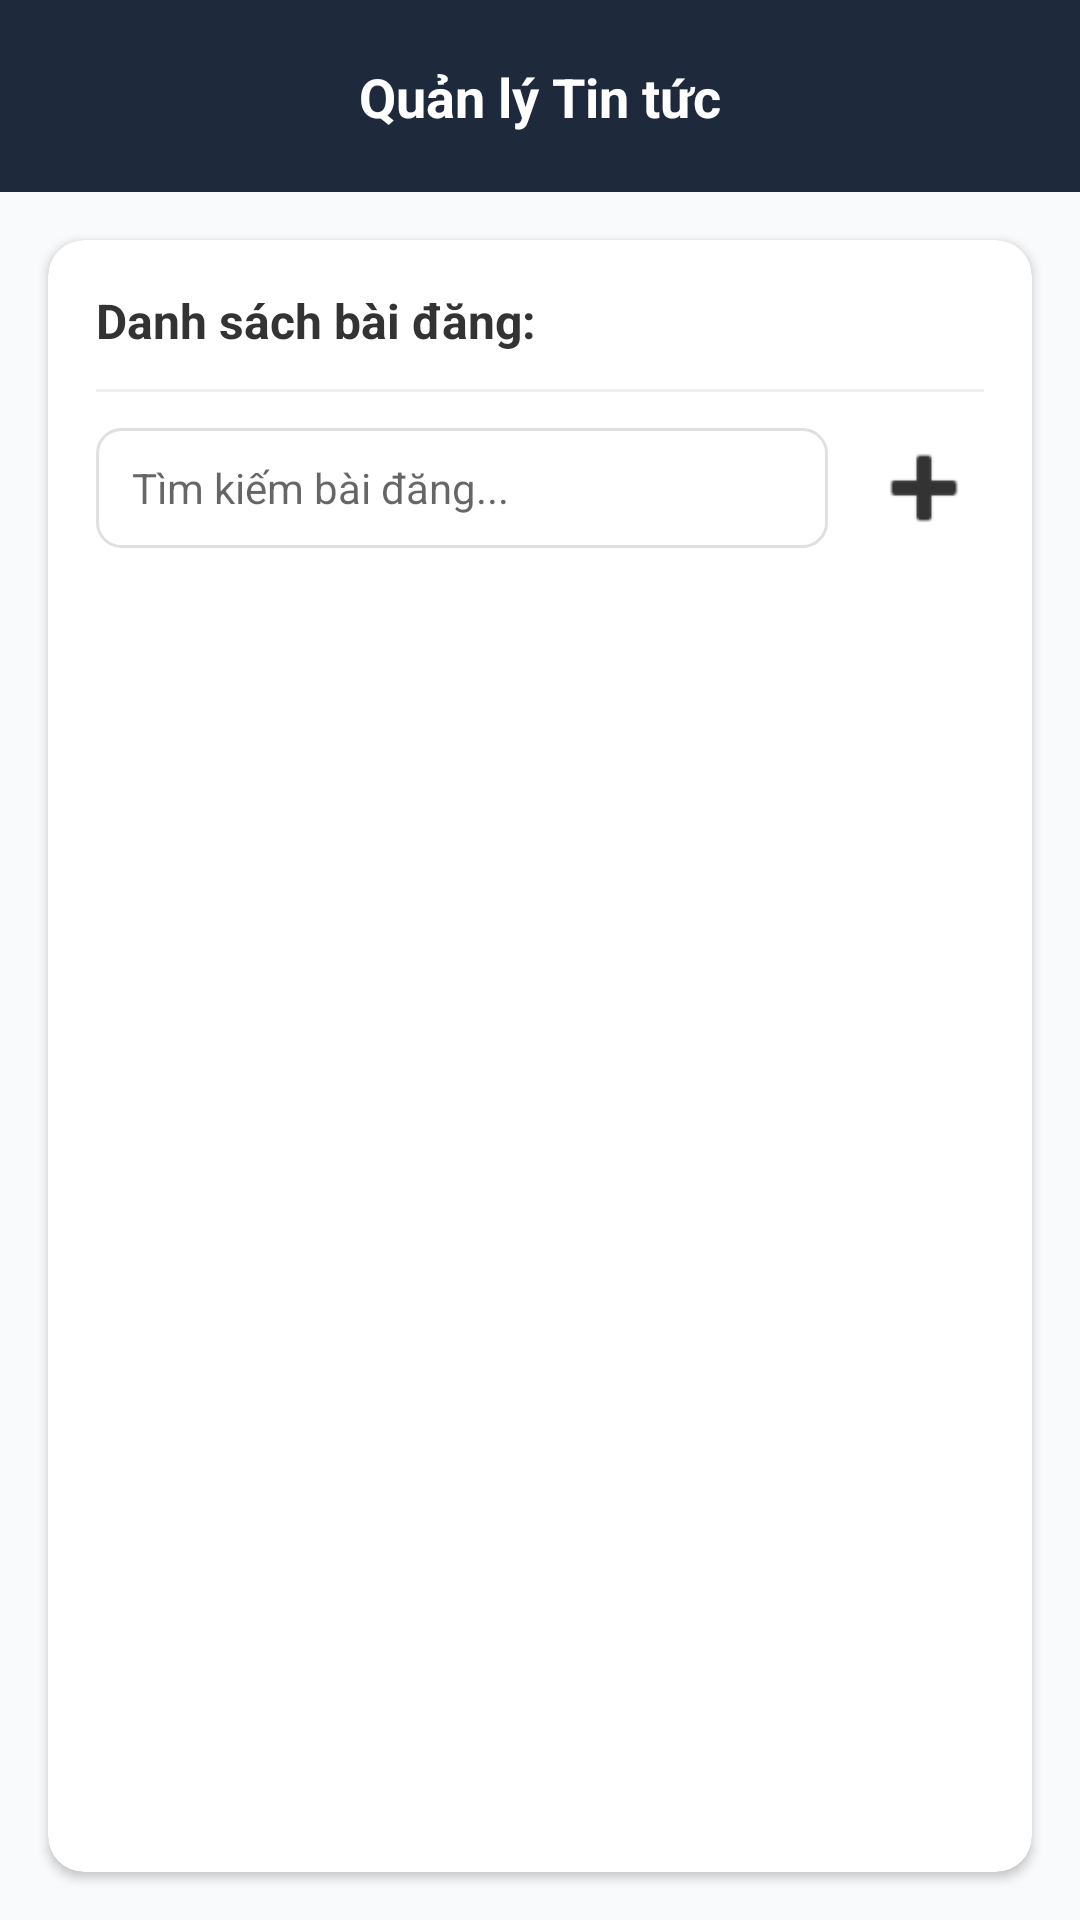

Named icons in this screenshot (1080w x 1920h) and their centers, (x,y):
add: (924,488)
